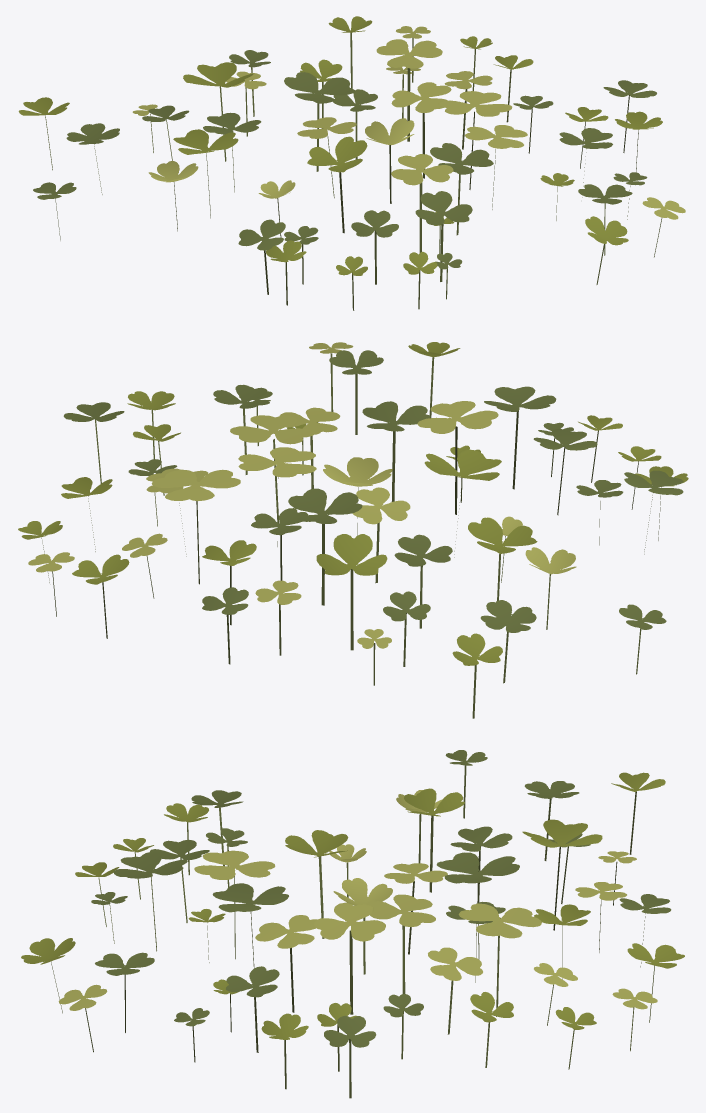
File: Clover_2.fbx
3 renders of one model, top to bottom at view 1: azimuth 30°, elevation 25°; view 2: azimuth 150°, elevation 25°; view 3: azimuth 270°, elevation 25°, orthographic. The views are drawn at different scales.
Visible parts, largest first — view 1: Clover_2; view 2: Clover_2; view 3: Clover_2.
Part boxes in pixels (left/top/right/bottom): Clover_2: left=18, top=16, right=685, bottom=310; Clover_2: left=18, top=342, right=688, bottom=718; Clover_2: left=21, top=750, right=684, bottom=1098.
Size of the model in its own units: 174 by 26.32 by 160.
1 material, 1 textured.
